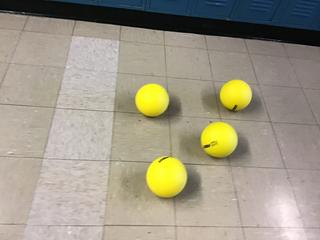power_cell: (146, 155, 190, 199), (199, 121, 242, 160), (133, 81, 172, 118), (218, 79, 254, 112)
